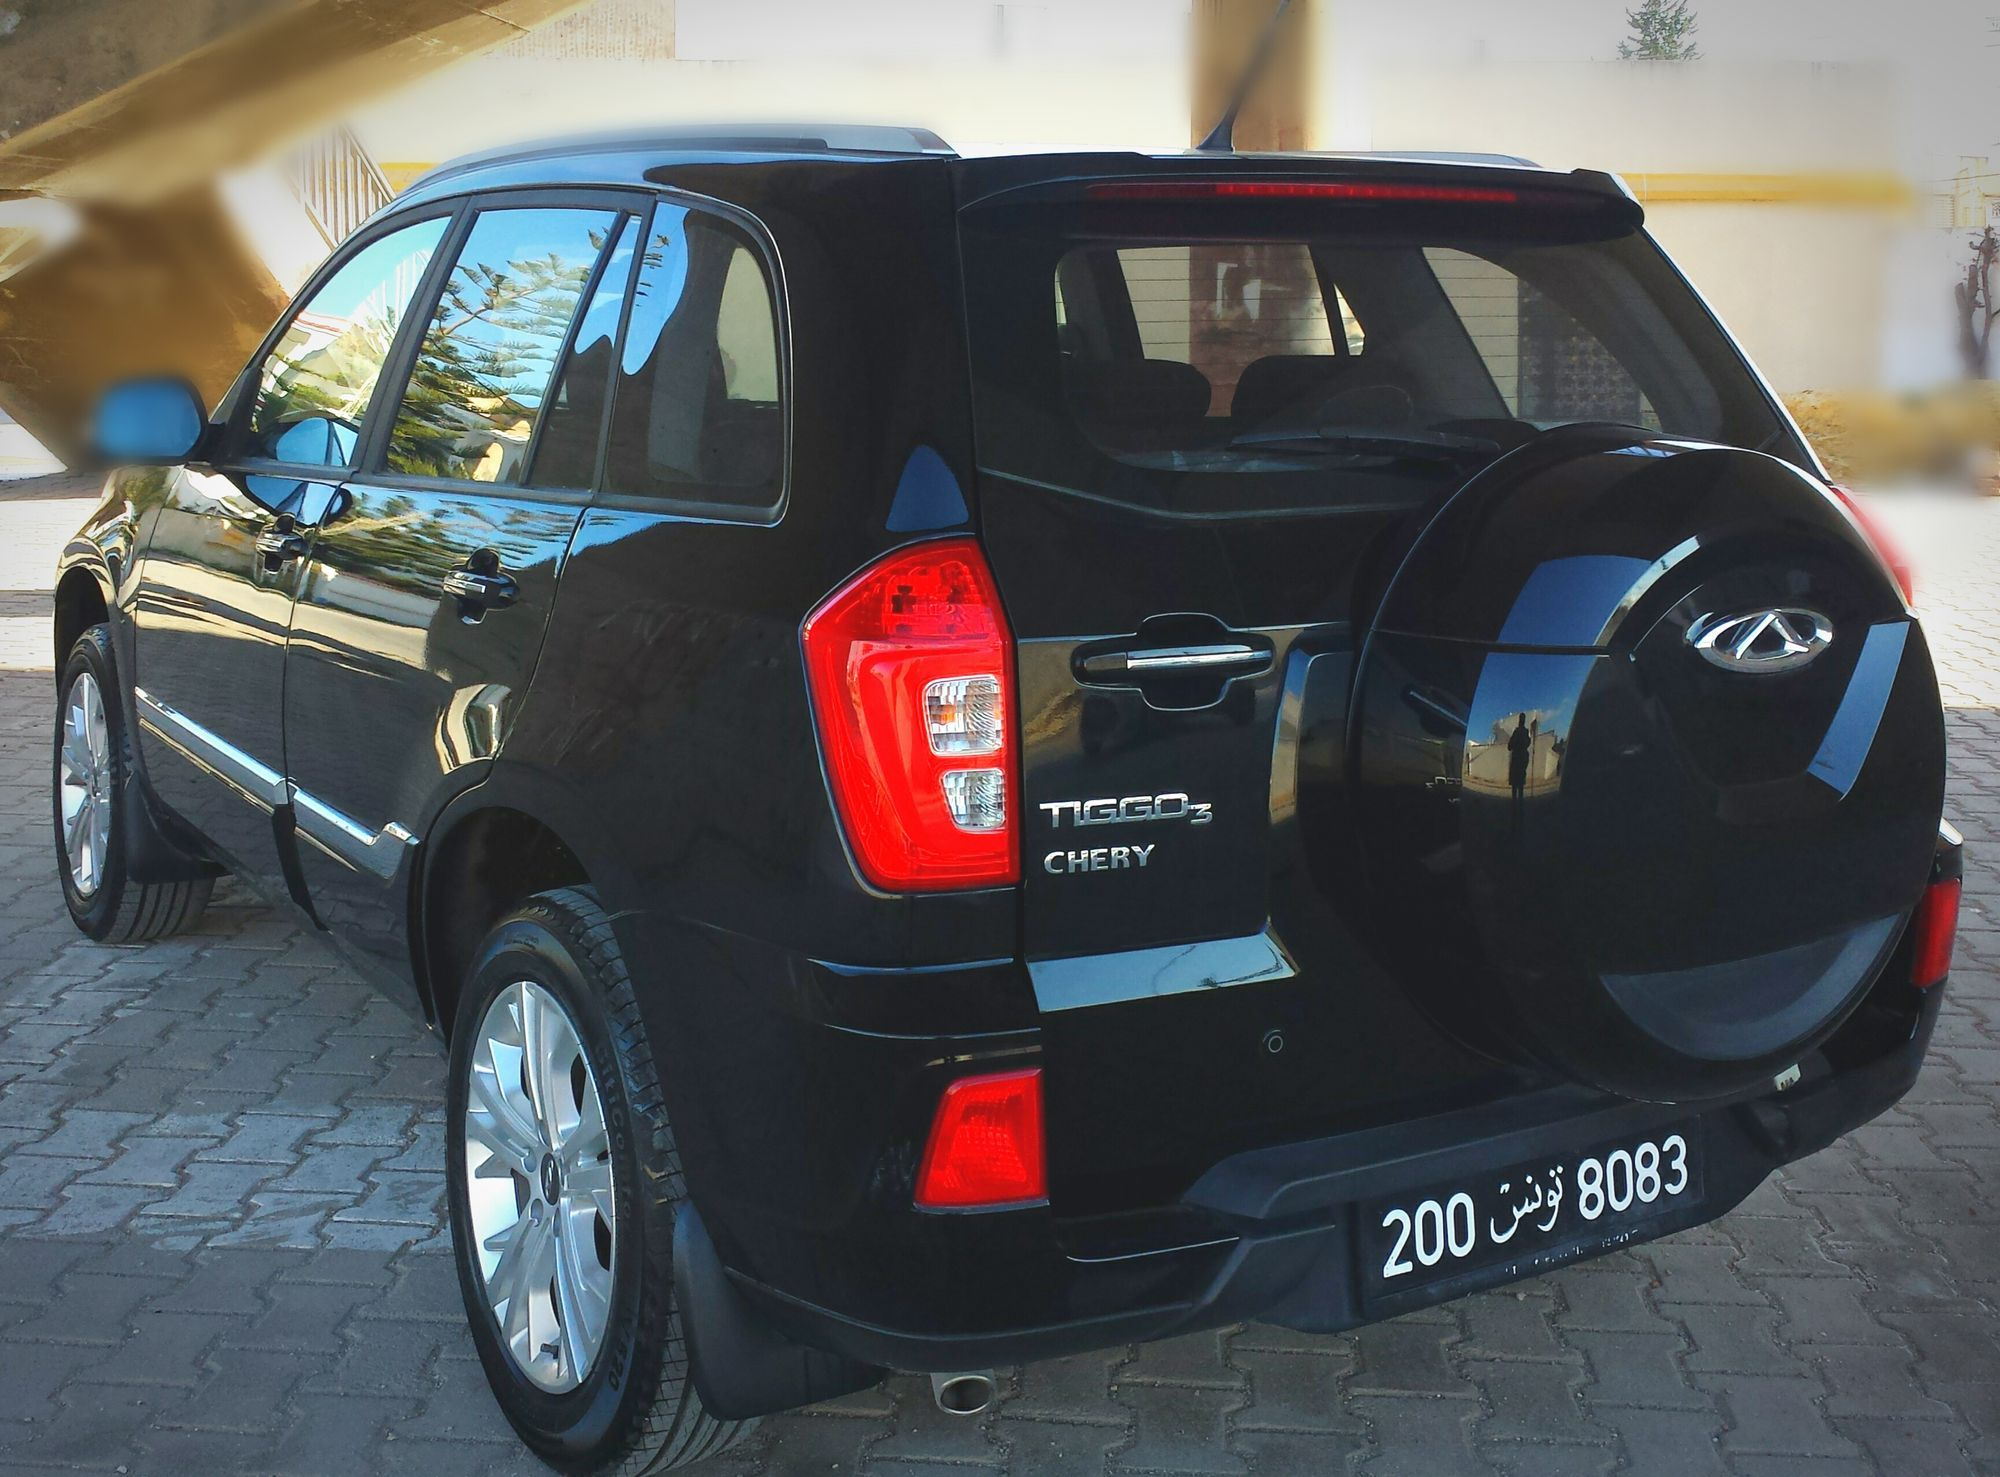LP: (1360, 1128, 1711, 1295)
